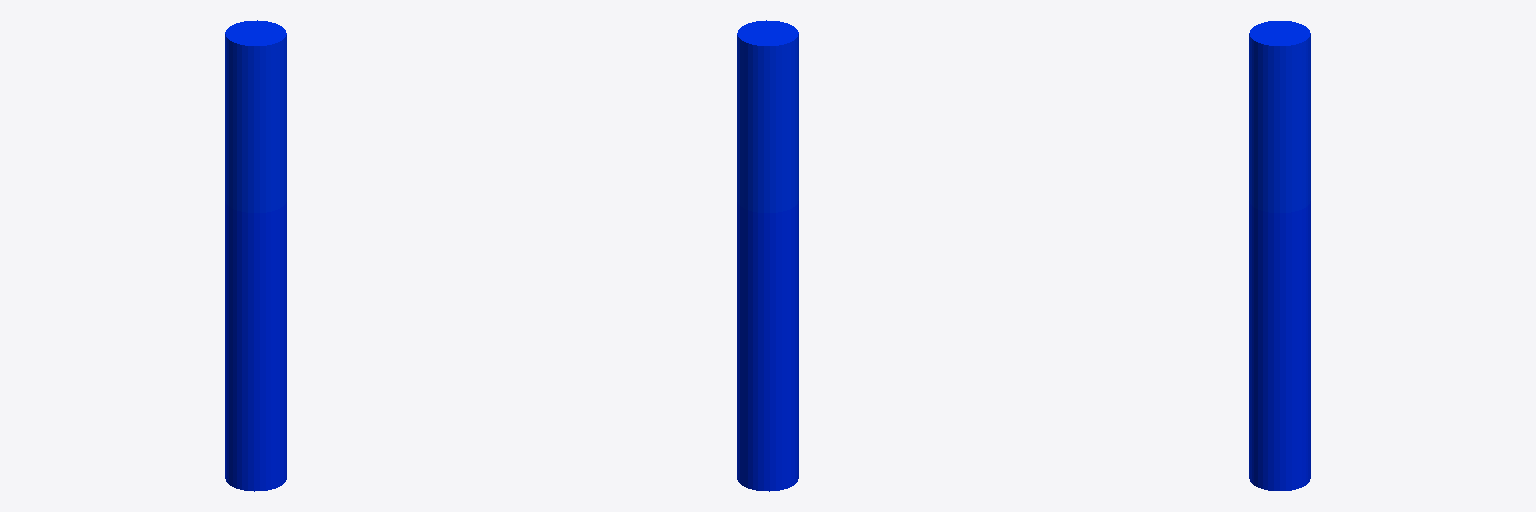
robot.urdf — simple_robot:
<?xml version="1.0" ?>
<robot name="simple_robot" xmlns:xacro="http://www.ros.org/wiki/xacro">
  <link name="base_link">
    <visual>
      <geometry>
        <cylinder length="0.5" radius="0.05"/>
      </geometry>
      <origin rpy="0 0 0" xyz="0 0 0.25"/>
      <material name="blue1">
        <color rgba="0 0.2 1 1"/>
      </material>
    </visual>
  </link>
  
  <link name="link1">
    <visual>
      <geometry>
        <cylinder length="0.3" radius="0.05"/>
      </geometry>
      <origin rpy="0 0 0" xyz="0 0 0.15"/>
      <material name="blue2">
        <color rgba="0 0.23 1 1"/>
      </material>
    </visual>
  </link>
  
  <joint name="link1_to_link2" type="revolute">
    <axis xyz="1 0 0"/>
    <limit effort="1000.0" lower="-3.14159" upper="1.1" velocity="0.5"/>
    <parent link="base_link"/>
    <child link="link1"/>
    <origin rpy="0 0.0 0" xyz="0 0 0.5"/>
  </joint>
</robot>

--- What the picture shows (computed from the rendered views, not written in the file) ---
The picture shows the robot from 3 angles, left to right: view 1: azimuth 30°, elevation 25°; view 2: azimuth 150°, elevation 25°; view 3: azimuth 270°, elevation 25°; orthographic projection.
Robot: simple_robot — 2 links, 1 joints (1 revolute); root link base_link; default pose: all joints at 0.
Links seen in each view (by area): view 1: base_link, link1; view 2: base_link, link1; view 3: base_link, link1.
Link boxes in pixels (left/top/right/bottom): base_link: left=225, top=201, right=286, bottom=491; link1: left=225, top=20, right=286, bottom=212; base_link: left=737, top=201, right=798, bottom=491; link1: left=737, top=20, right=798, bottom=212; base_link: left=1249, top=201, right=1310, bottom=490; link1: left=1249, top=21, right=1310, bottom=212.
Bounding box of the posed robot: 0.1 × 0.1 × 0.8 m (x, y, z).
Geometry: primitives only (box / cylinder / sphere), no mesh files.